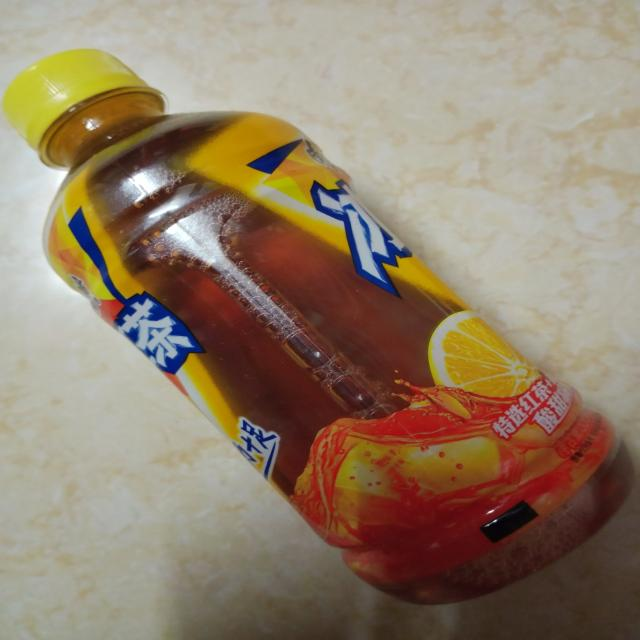bottle: (0, 47, 639, 608)
